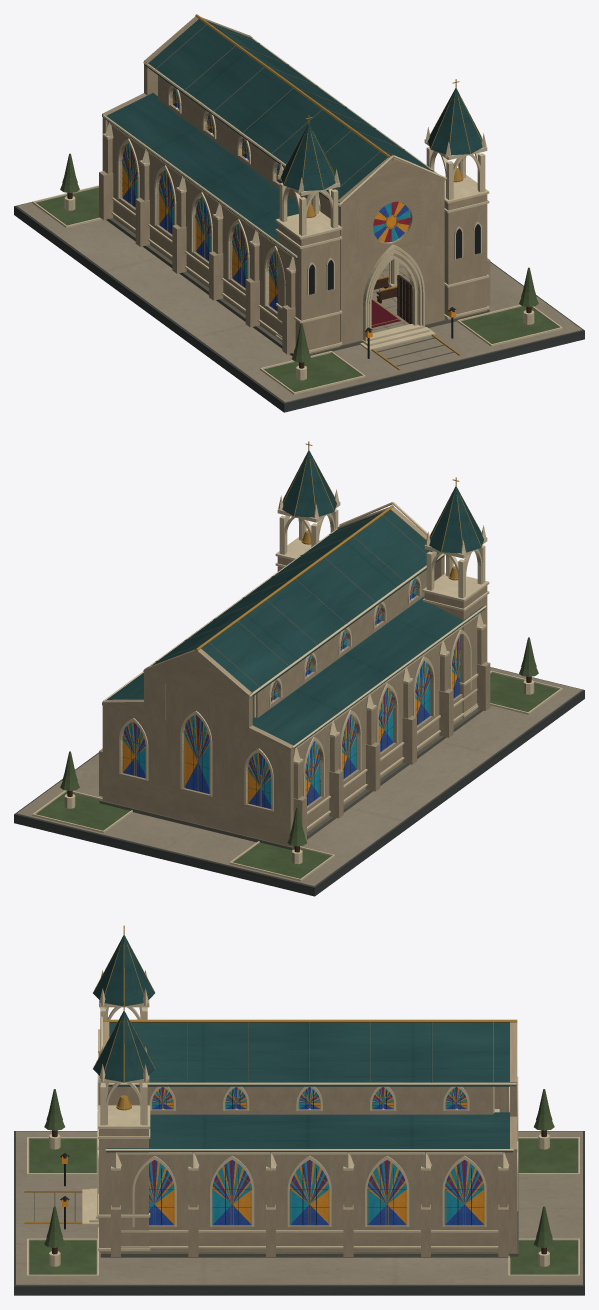
File: VesperCathedral.fbx
3 views of the same model, one above another, from view 1: azimuth 30°, elevation 25°; view 2: azimuth 150°, elevation 25°; view 3: azimuth 270°, elevation 25° (orthographic). The views are drawn at different scales.
Parts seen in each view (by area): view 1: Vesper_01_Foundation, Vesper_07_NaveRoof, Vesper_11_Entrance, Vesper_08_AisleRoof_-1, Vesper_16_BellTower_-1, Vesper_16_BellTower_1, Vesper_04_Buttresses_-1, Vesper_17_Spire_1, Vesper_17_Spire_-1, Vesper_03_West_Bay5, Vesper_03_West_Bay3, Vesper_03_West_Bay2 (+16 smaller); view 2: Vesper_01_Foundation, Vesper_07_NaveRoof, Vesper_08_AisleRoof_-1, Vesper_14_SanctuaryWall_1, Vesper_04_Buttresses_-1, Vesper_15_EastGable, Vesper_14_SanctuaryWall_0, Vesper_14_SanctuaryWall_2, Vesper_16_BellTower_-1, Vesper_17_Spire_-1, Vesper_17_Spire_1, Vesper_03_West_Bay3 (+22 smaller); view 3: Vesper_01_Foundation, Vesper_07_NaveRoof, Vesper_08_AisleRoof_1, Vesper_16_BellTower_1, Vesper_04_Buttresses_1, Vesper_03_East_Bay5, Vesper_03_East_Bay3, Vesper_03_East_Bay2, Vesper_03_East_Bay4, Vesper_03_East_Bay1, Vesper_17_Spire_-1, Vesper_17_Spire_1 (+17 smaller).
Boxes of the visible parts, box(x1,y1,x2,y2) form: Vesper_01_Foundation: box(14, 185, 584, 412); Vesper_07_NaveRoof: box(143, 14, 445, 207); Vesper_11_Entrance: box(338, 155, 446, 344); Vesper_08_AisleRoof_-1: box(103, 93, 298, 258); Vesper_16_BellTower_-1: box(275, 175, 342, 353); Vesper_16_BellTower_1: box(424, 139, 489, 320); Vesper_04_Buttresses_-1: box(99, 121, 296, 354); Vesper_17_Spire_1: box(425, 79, 486, 157); Vesper_17_Spire_-1: box(278, 115, 339, 193); Vesper_03_West_Bay5: box(109, 122, 145, 233); Vesper_03_West_Bay3: box(183, 176, 218, 287); Vesper_03_West_Bay2: box(219, 203, 255, 314); Vesper_01_Foundation: box(14, 667, 584, 896); Vesper_07_NaveRoof: box(143, 505, 445, 697); Vesper_08_AisleRoof_-1: box(252, 596, 486, 748); Vesper_14_SanctuaryWall_1: box(165, 683, 227, 830); Vesper_04_Buttresses_-1: box(293, 613, 490, 841); Vesper_15_EastGable: box(102, 648, 294, 750); Vesper_14_SanctuaryWall_0: box(228, 735, 293, 846); Vesper_14_SanctuaryWall_2: box(102, 705, 165, 815); Vesper_16_BellTower_-1: box(422, 537, 489, 718); Vesper_17_Spire_-1: box(425, 477, 486, 555); Vesper_17_Spire_1: box(278, 441, 339, 520); Vesper_03_West_Bay3: box(370, 667, 406, 778); Vesper_01_Foundation: box(14, 1131, 584, 1295); Vesper_07_NaveRoof: box(103, 1019, 517, 1086); Vesper_08_AisleRoof_1: box(105, 1112, 513, 1152); Vesper_16_BellTower_1: box(97, 1075, 150, 1252); Vesper_04_Buttresses_1: box(110, 1152, 510, 1256); Vesper_03_East_Bay5: box(426, 1152, 502, 1251); Vesper_03_East_Bay3: box(271, 1152, 347, 1251); Vesper_03_East_Bay2: box(194, 1152, 270, 1251); Vesper_03_East_Bay4: box(349, 1152, 425, 1251); Vesper_03_East_Bay1: box(116, 1152, 192, 1251); Vesper_17_Spire_-1: box(93, 925, 155, 1006); Vesper_17_Spire_1: box(93, 1001, 155, 1082).
Size of the model in its own units: 108 by 82.56 by 168.
2 materials, 2 textured.
